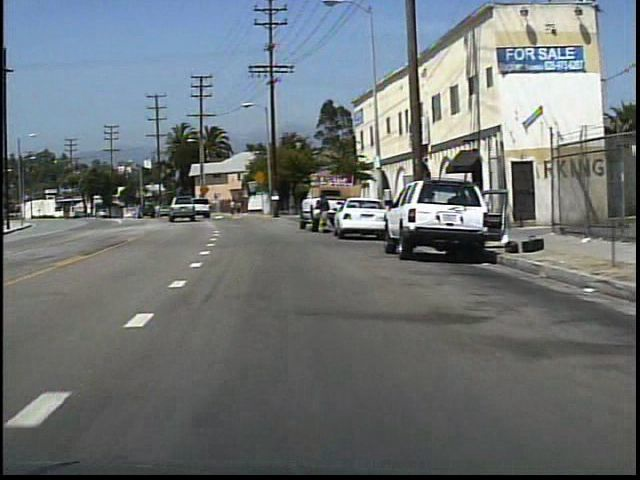person: (317, 187, 338, 237), (229, 198, 239, 218), (235, 199, 244, 216)
